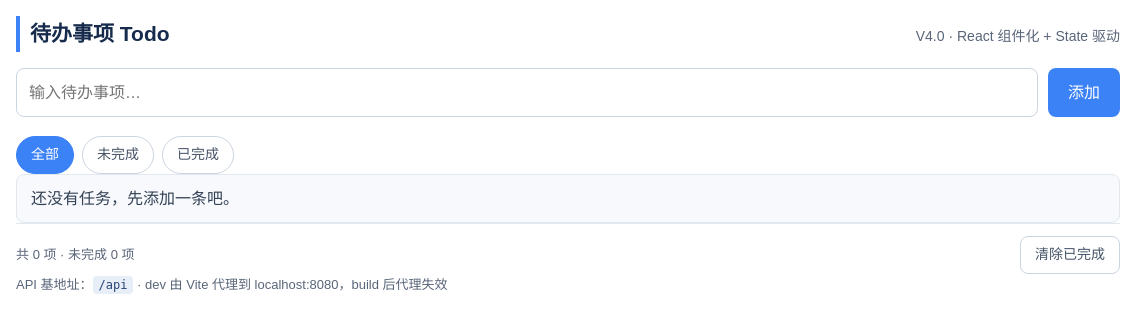
Scenario: 行为1：添加任务后列表多一项，输入框被清空
This screenshot has width=1137, height=312.
Type "任务A" into the field named "待办事项内容" at (527, 92), box [16,68,1038,117]
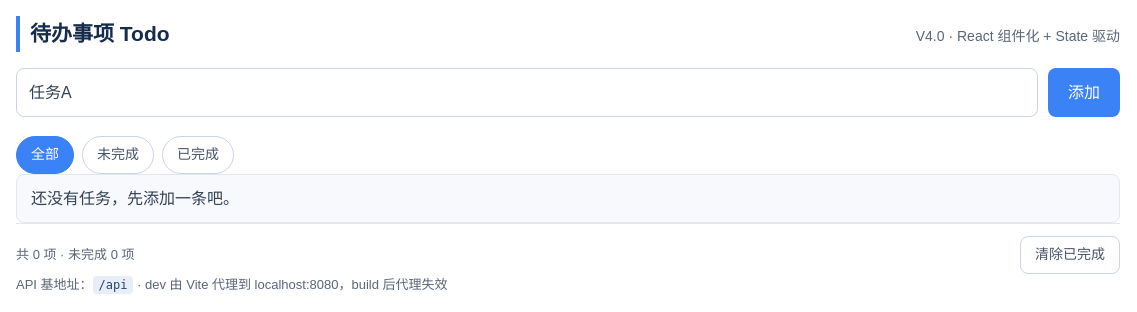
Click the button "添加" at (1084, 92), box [1048,68,1120,117]
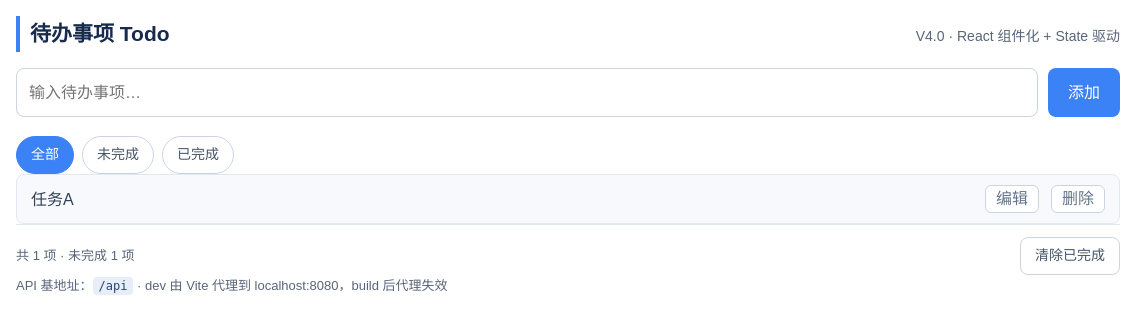
Check: the text "任务A" is shown, box [31,191,74,208]
Check: the number of list items is 1, box [16,174,1120,224]
Check: the field named "待办事项内容" is empty, box [16,68,1038,117]
